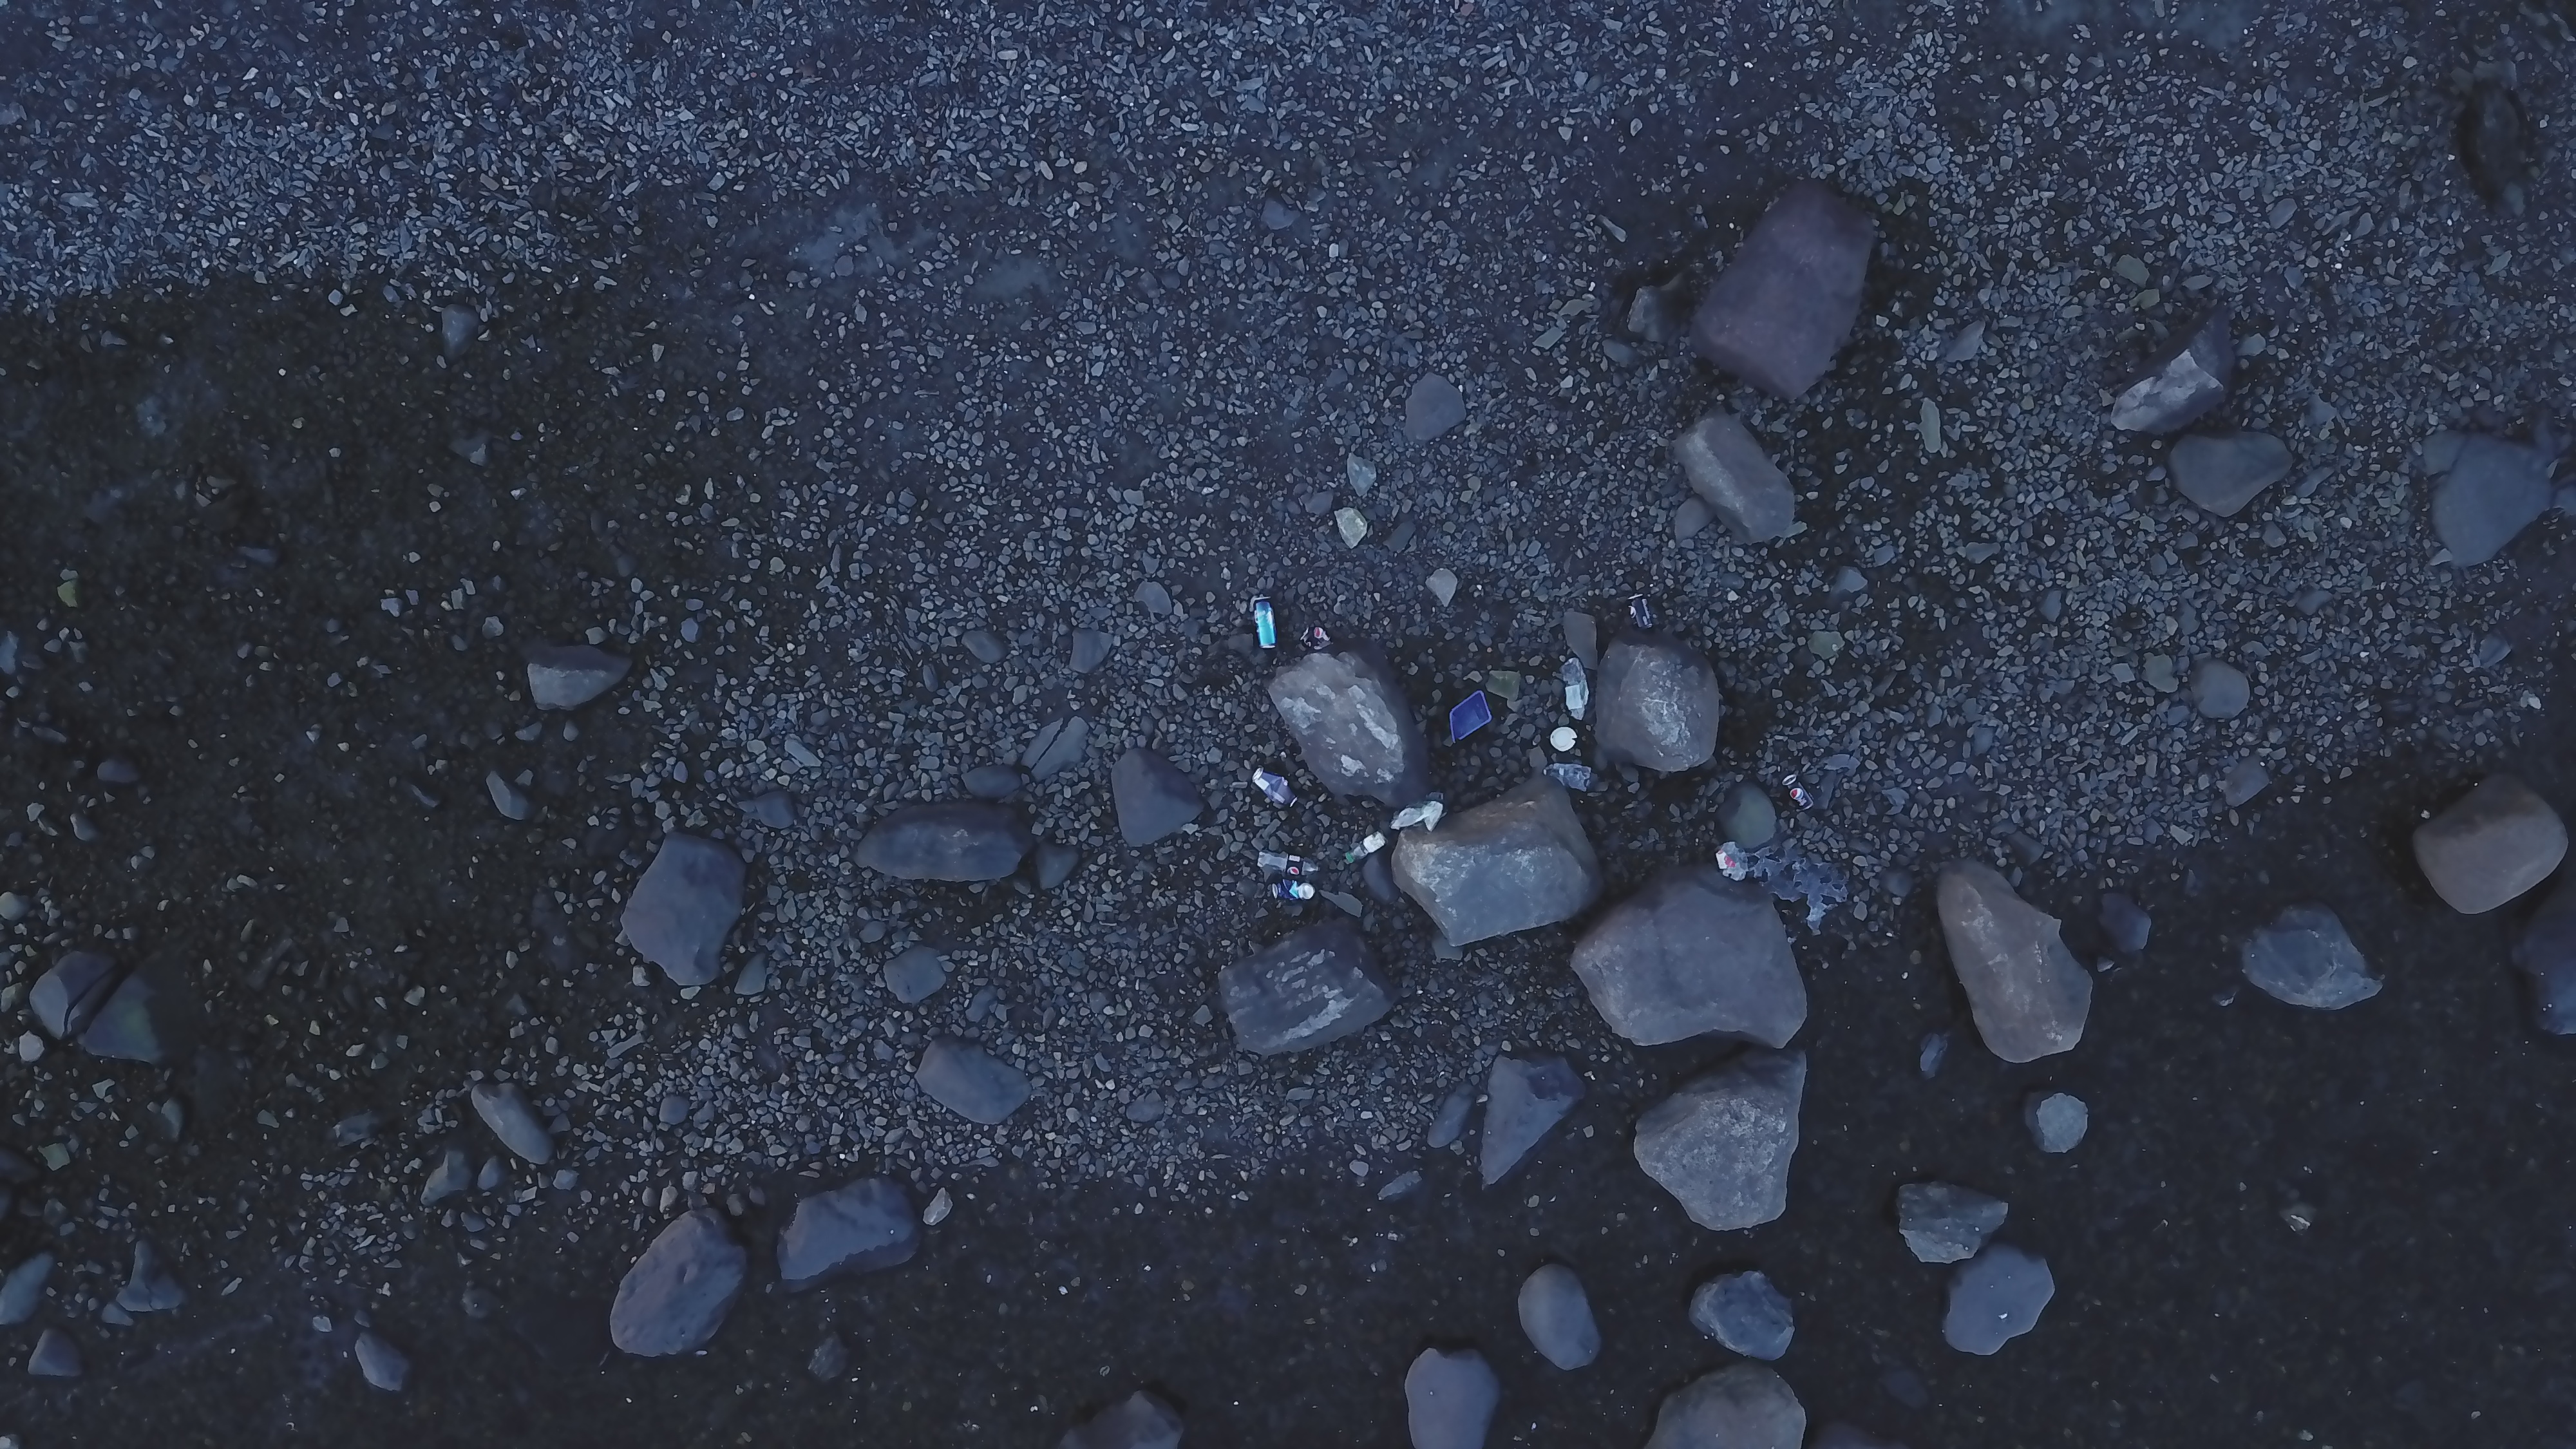Can: (1451, 690, 1493, 747), (1249, 766, 1302, 810), (1253, 596, 1281, 651), (1626, 589, 1658, 635), (1783, 771, 1813, 812), (1267, 879, 1316, 902), (1300, 623, 1336, 653)
Plastic: (1562, 655, 1596, 720), (1707, 840, 1757, 879), (1392, 801, 1447, 832), (1548, 729, 1580, 754)
PlasticBottle: (1258, 847, 1332, 879), (1346, 828, 1384, 865)
